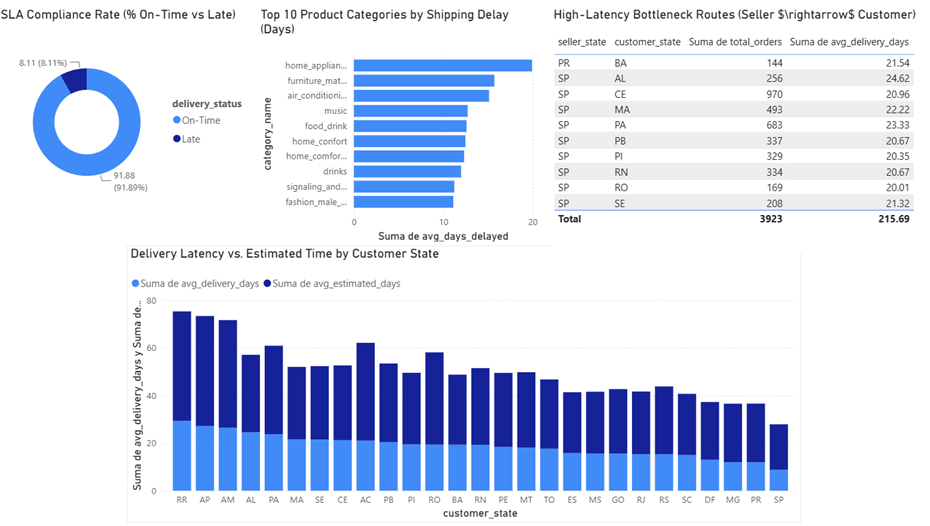

Layout of this report page (visuals, bound fields, positions):
{"tool":"powerbi","page":{"name":"Página 1","canvas":[1280,720],"ordinal":0},"visuals":[{"type":"donutChart","title":"SLA Compliance Rate (% On-Time vs Late)","fields":{"Category":["df_sla_compliance.delivery_status"],"Y":["Sum(df_sla_compliance.percentage)"]},"box":[9.4,20.2,349.7,279.8],"z":0},{"type":"clusteredBarChart","title":"Top 10 Product Categories by Shipping Delay (Days)","fields":{"Category":["df_top_delayed_categories.category_name"],"Y":["Sum(df_top_delayed_categories.avg_days_delayed)"]},"box":[359.2,20.2,382.6,320.9],"z":1000},{"type":"columnChart","title":"Delivery Latency vs. Estimated Time by Customer State","fields":{"Category":["df_latency_by_state.customer_state"],"Y":["Sum(df_latency_by_state.avg_delivery_days)","Sum(df_latency_by_state.avg_estimated_days)"]},"box":[184.3,341.8,906.5,373],"z":2000},{"type":"tableEx","title":"High-Latency Bottleneck Routes (Seller $\\rightarrow$ Customer)","fields":{"Values":["df_bottleneck_routes.seller_state","df_bottleneck_routes.customer_state","Sum(df_bottleneck_routes.total_orders)","Sum(df_bottleneck_routes.avg_delivery_days)"]},"box":[753.5,20.2,526.6,331.9],"z":3000}]}

Visuals, with their boxes in screenshot pixels (x1, y1, x2, y2), scaled from the page's 1280x720 canvas onto the 930x526 screenshot:
"SLA Compliance Rate (% On-Time vs Late)" donutChart: [x1=7, y1=15, x2=261, y2=219]
"Top 10 Product Categories by Shipping Delay (Days)" clusteredBarChart: [x1=261, y1=15, x2=539, y2=249]
"Delivery Latency vs. Estimated Time by Customer State" columnChart: [x1=134, y1=250, x2=793, y2=522]
"High-Latency Bottleneck Routes (Seller $\rightarrow$ Customer)" tableEx: [x1=547, y1=15, x2=929, y2=257]
